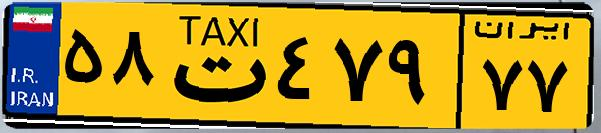4: (270, 28, 330, 110)
5: (57, 26, 110, 100)
7: (330, 28, 385, 110), (475, 38, 525, 113), (525, 38, 570, 115)
8: (110, 28, 158, 98)
9: (385, 28, 445, 110)
ت: (158, 12, 270, 120)
